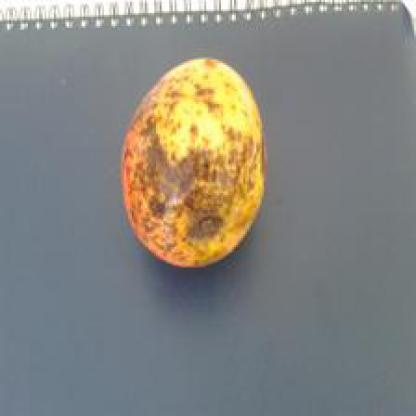mango_rotten: (115, 52, 266, 270)
